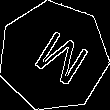M_SW: (21, 22, 86, 90)
